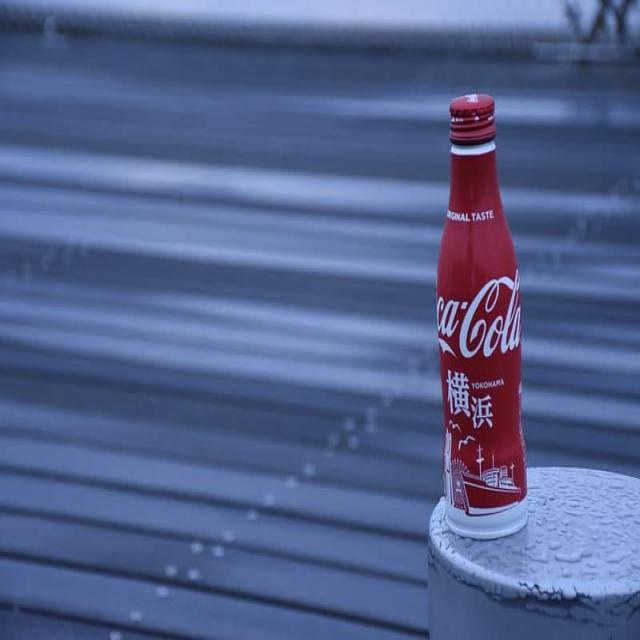coca-cola: (432, 86, 534, 542)
